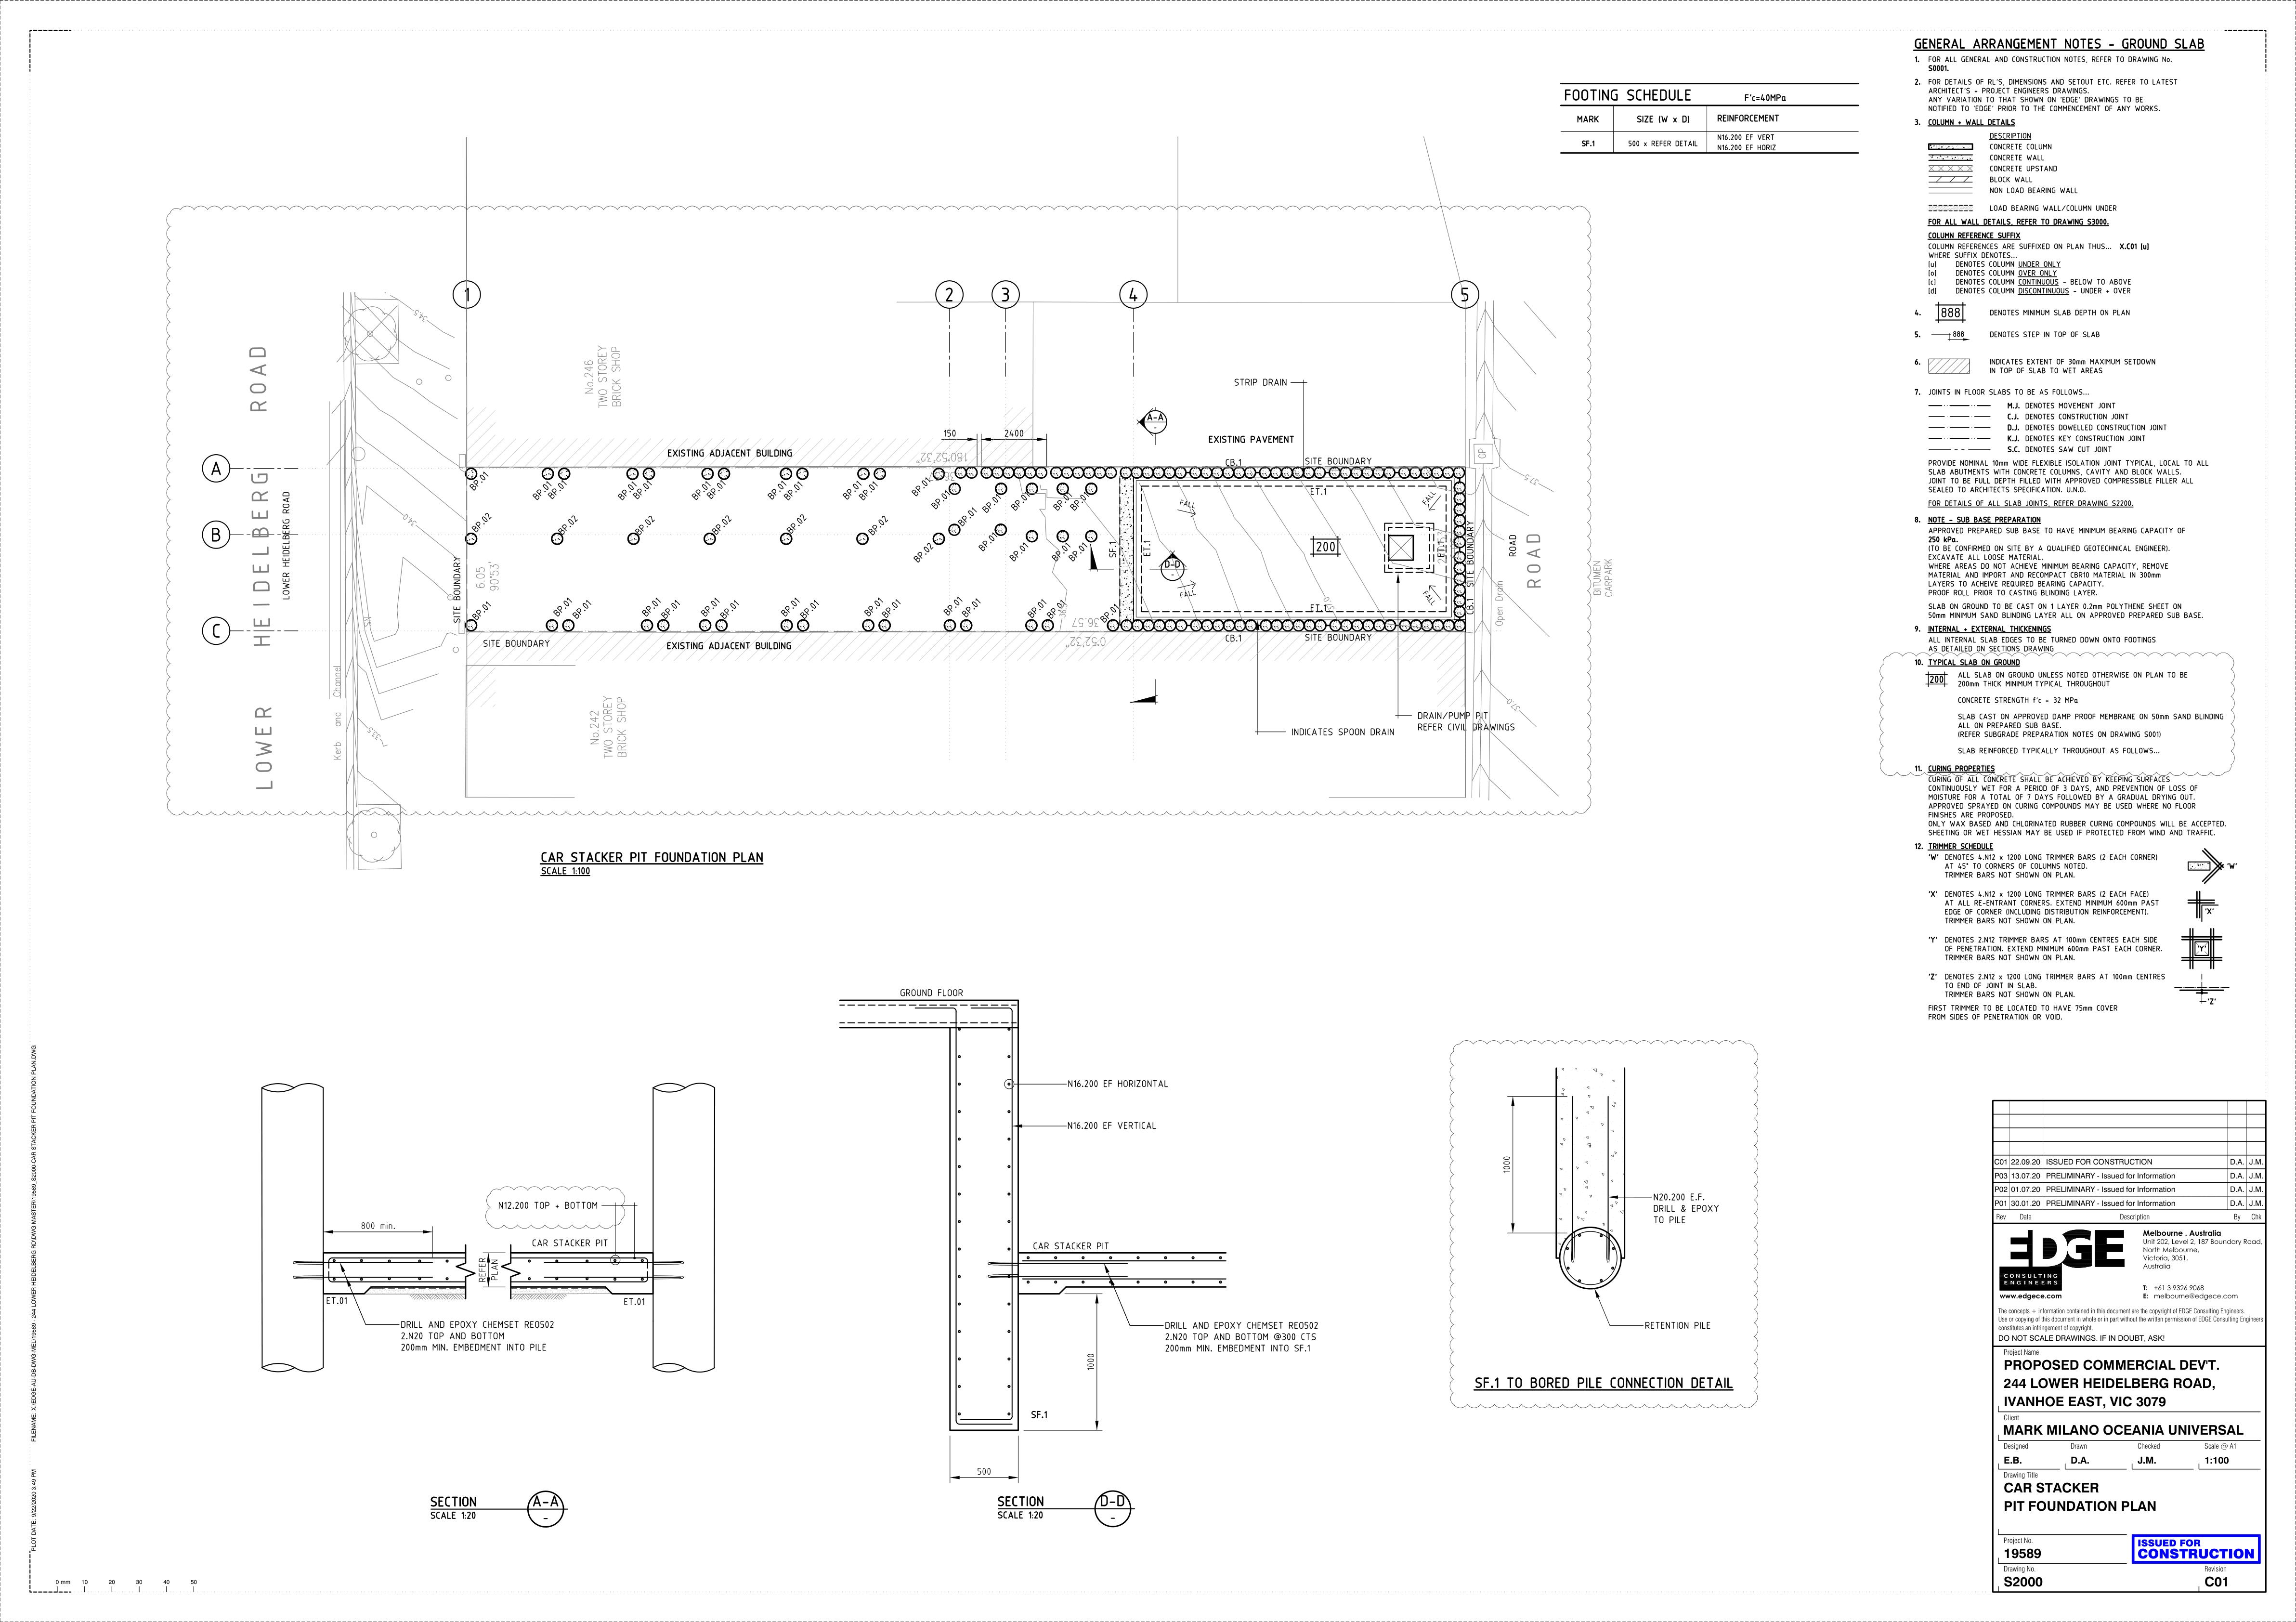BP.01: (693, 590, 720, 616), (851, 590, 879, 614), (1069, 488, 1094, 514), (960, 595, 985, 620), (883, 597, 908, 621), (1008, 488, 1034, 511), (1018, 595, 1046, 616), (974, 530, 999, 553), (800, 597, 825, 620), (720, 595, 743, 620), (1095, 602, 1123, 621), (1067, 541, 1090, 563), (1046, 597, 1069, 620), (930, 486, 951, 511), (979, 493, 1004, 514), (572, 600, 597, 621), (469, 602, 495, 621), (839, 474, 860, 497), (1008, 542, 1029, 565), (1050, 539, 1071, 562), (941, 592, 962, 614), (779, 593, 800, 616), (548, 597, 572, 616), (634, 481, 655, 502), (639, 595, 660, 616), (528, 479, 551, 499), (909, 476, 932, 495), (786, 481, 806, 502), (470, 470, 488, 493), (549, 483, 572, 500), (864, 477, 879, 502), (616, 479, 635, 499), (711, 483, 730, 502), (958, 506, 978, 525), (662, 600, 683, 618), (767, 479, 785, 499), (1051, 490, 1069, 509), (690, 481, 709, 497)
BP.02: (467, 507, 493, 532), (556, 513, 585, 535), (909, 541, 934, 563), (869, 514, 892, 537), (711, 513, 734, 534), (786, 513, 809, 532), (635, 514, 657, 534)
CB.1: (1462, 595, 1482, 623), (1220, 455, 1246, 470), (1223, 630, 1248, 646)
ET.1: (1309, 599, 1332, 618), (1308, 483, 1331, 502), (1137, 535, 1155, 560), (1434, 539, 1448, 560)
SF.1: (1104, 537, 1120, 560)
